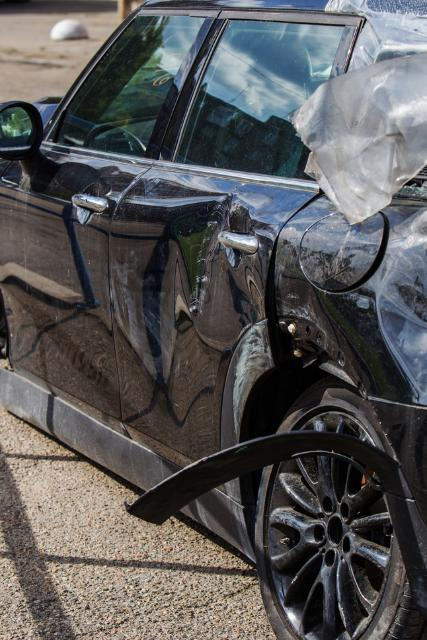Door: (106, 162, 244, 504)
